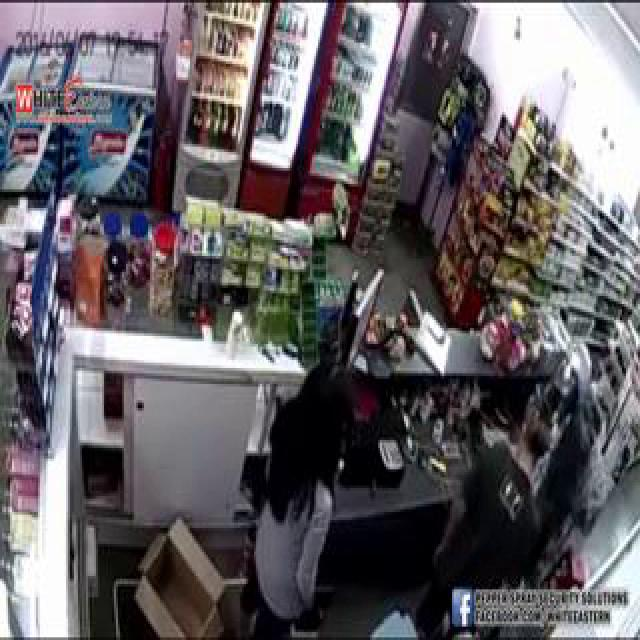robbery: (197, 318, 467, 636)
